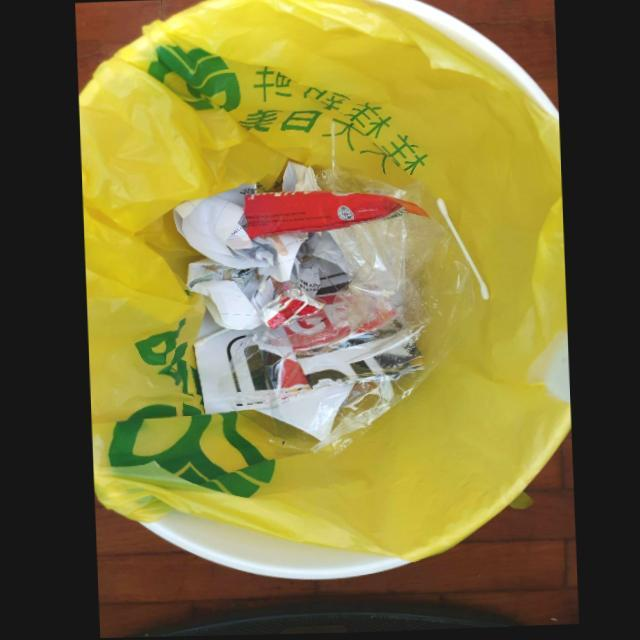paper: (173, 184, 315, 332), (191, 307, 249, 417), (279, 164, 320, 191)
plastic: (218, 171, 475, 460), (241, 191, 428, 241)
wrapper: (260, 289, 323, 330)
